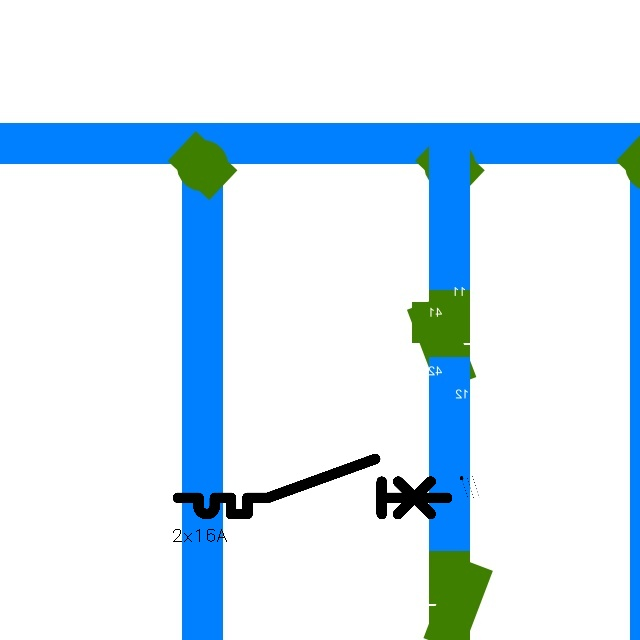interruptor_termomagnetico: (171, 452, 454, 521)
